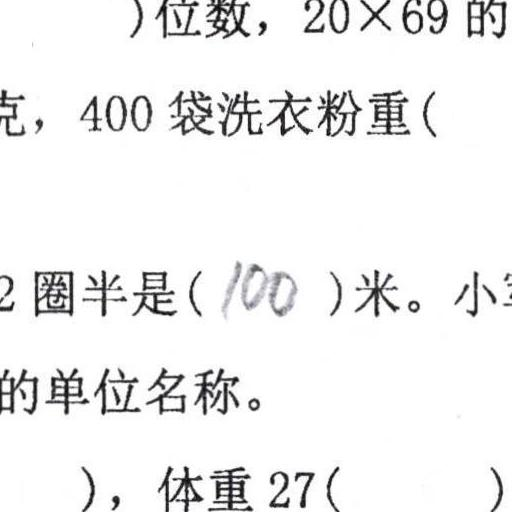ans: (218, 252, 298, 320)
